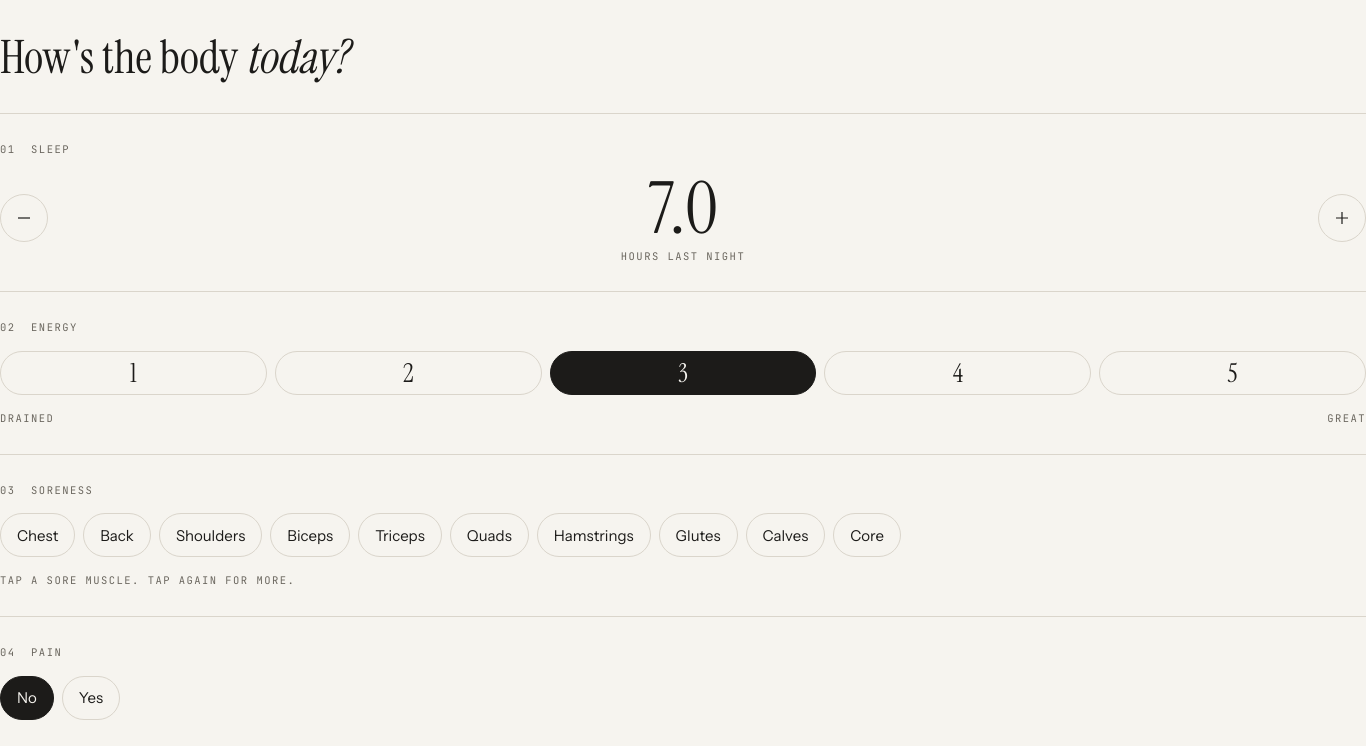
Test: check-in screen › less sleep turns the card yellow and lists the hours as a reason
Click the button named "Half an hour less". click: (24, 218)
box: [0, 194, 48, 242]
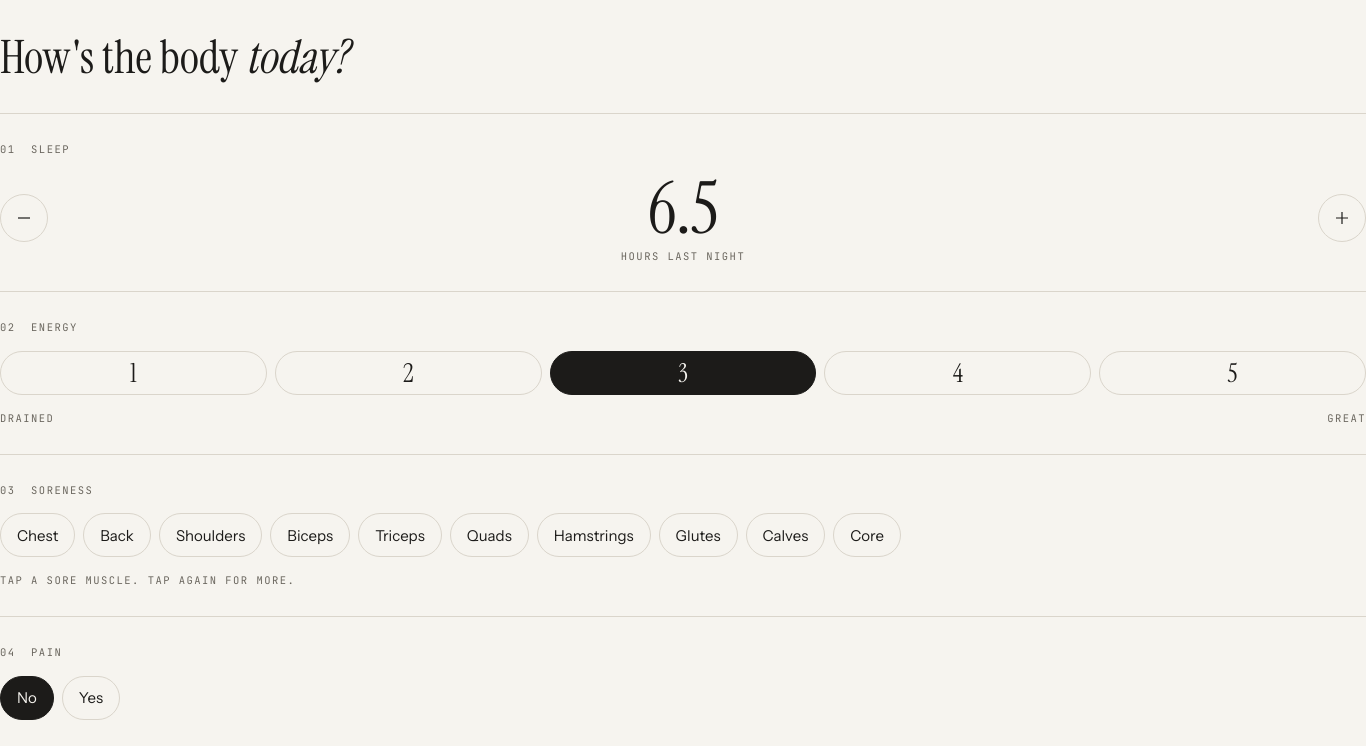
Click the button named "Half an hour less". click: (24, 218)
box: [0, 194, 48, 242]
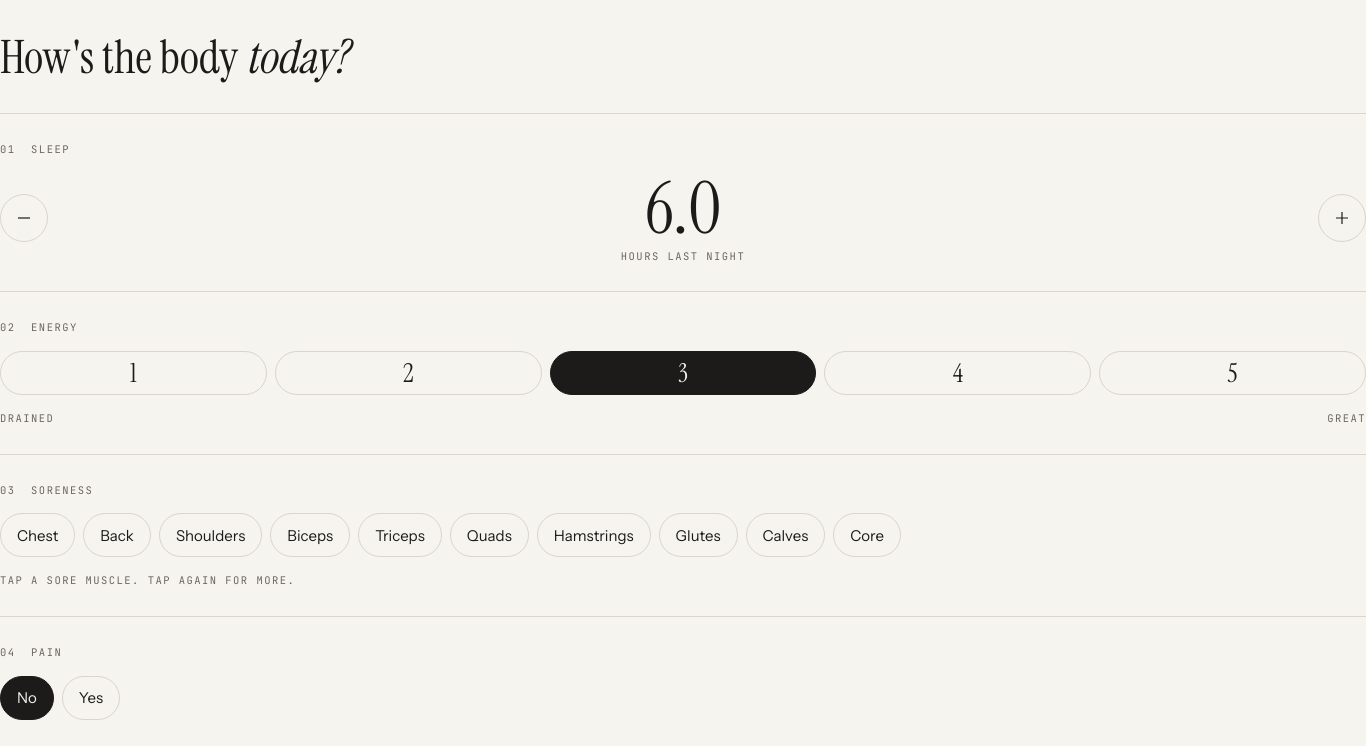
Click the button named "Half an hour less". click: (24, 218)
box: [0, 194, 48, 242]
(page scrolled)
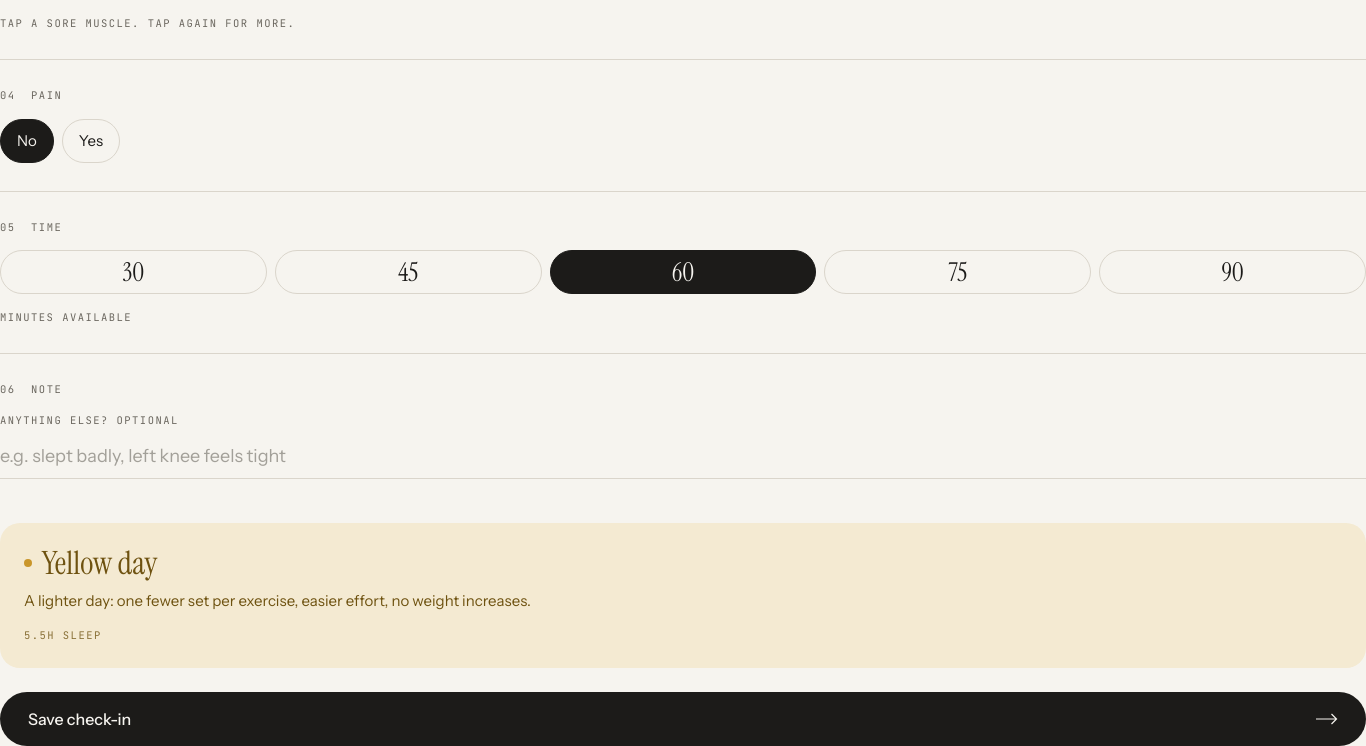
Now the text "Yellow day" is shown, box [42, 546, 157, 578]
Now the text "5.5h sleep" is shown, box [24, 628, 102, 642]
